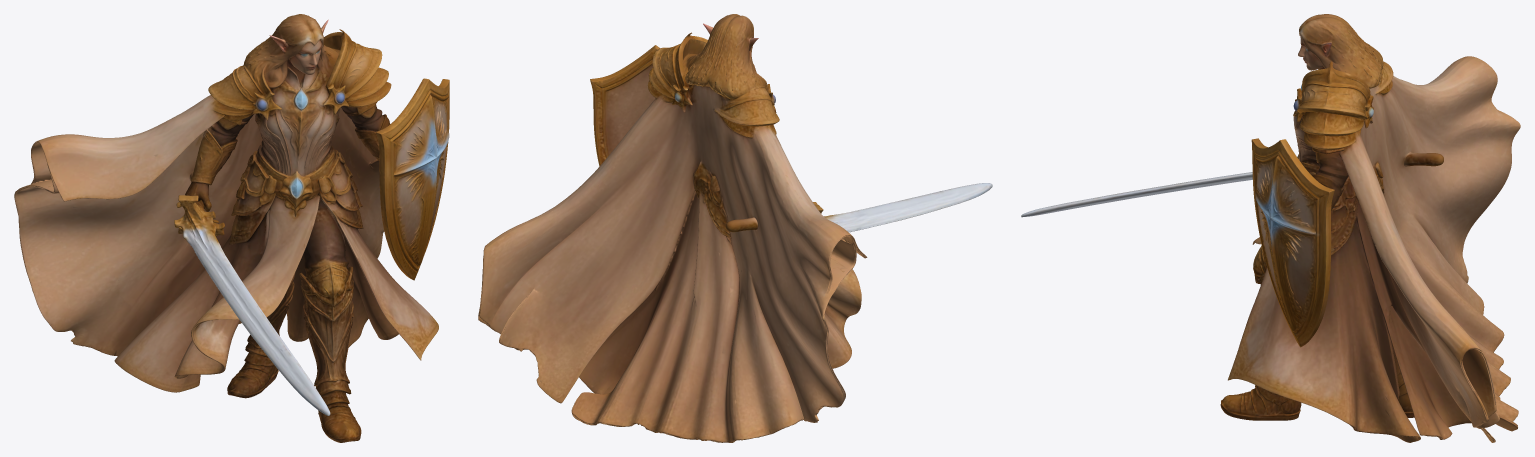
Rendered from elf_paladin_full_male_01.glb.
The picture shows the model from 3 angles, left to right: view 1: azimuth 30°, elevation 25°; view 2: azimuth 150°, elevation 25°; view 3: azimuth 270°, elevation 25°; orthographic projection. The views are drawn at different scales.
Visible parts, largest first — view 1: material; view 2: material; view 3: material.
Boxes of the visible parts, bbox=[...] form: material: bbox=[14, 14, 449, 442]; material: bbox=[478, 14, 992, 442]; material: bbox=[1021, 14, 1520, 442].
Bounding box in the file's own units: 0.8019 × 0.7813 × 0.8957.
Materials: 1 (1 with a texture image).
